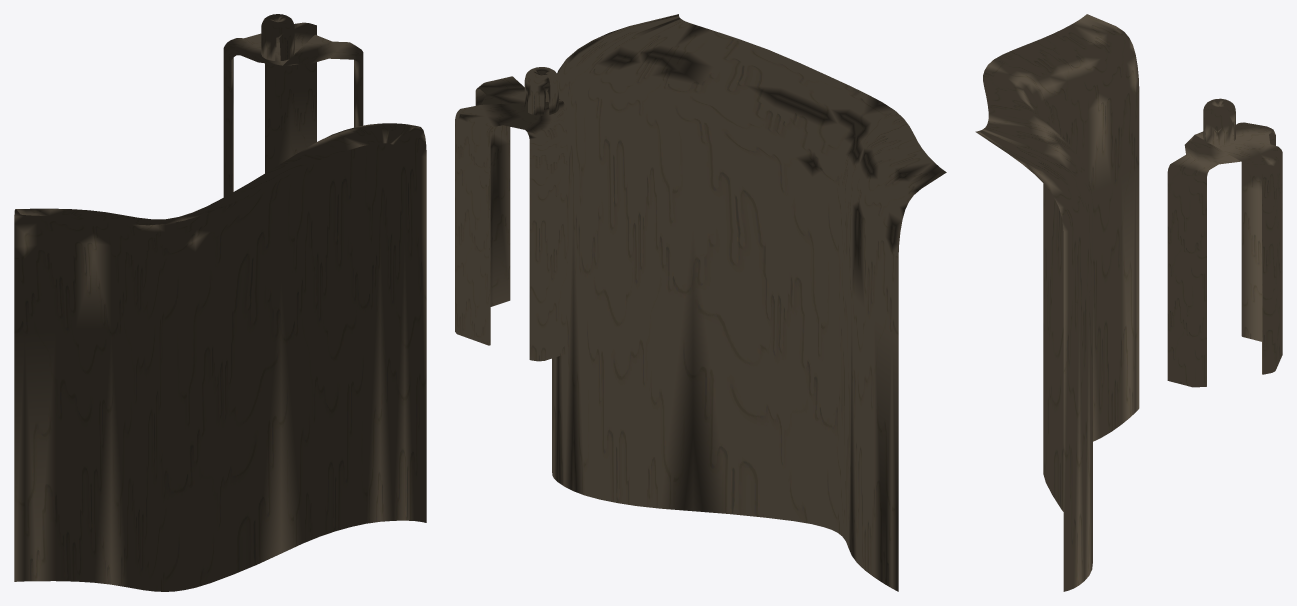
File: stg210_MotChocoB_17.obj
3 views of the same model, side by side, from view 1: azimuth 30°, elevation 25°; view 2: azimuth 150°, elevation 25°; view 3: azimuth 270°, elevation 25° (orthographic). The views are drawn at different scales.
Parts seen in each view (by area): view 1: polygon2, polygon0, polygon1; view 2: polygon2, polygon0, polygon1; view 3: polygon2, polygon0, polygon1.
Part boxes in pixels (bbox=[...]): polygon2: bbox=[14, 123, 426, 591]; polygon0: bbox=[223, 22, 363, 197]; polygon1: bbox=[261, 14, 294, 60]; polygon2: bbox=[552, 14, 946, 591]; polygon0: bbox=[455, 76, 568, 361]; polygon1: bbox=[524, 67, 558, 115]; polygon2: bbox=[975, 14, 1139, 591]; polygon0: bbox=[1167, 122, 1282, 387]; polygon1: bbox=[1203, 98, 1235, 144].
Bounding box in the file's own units: 4971 × 5557 × 3401.
Materials: 1 (1 with a texture image).
